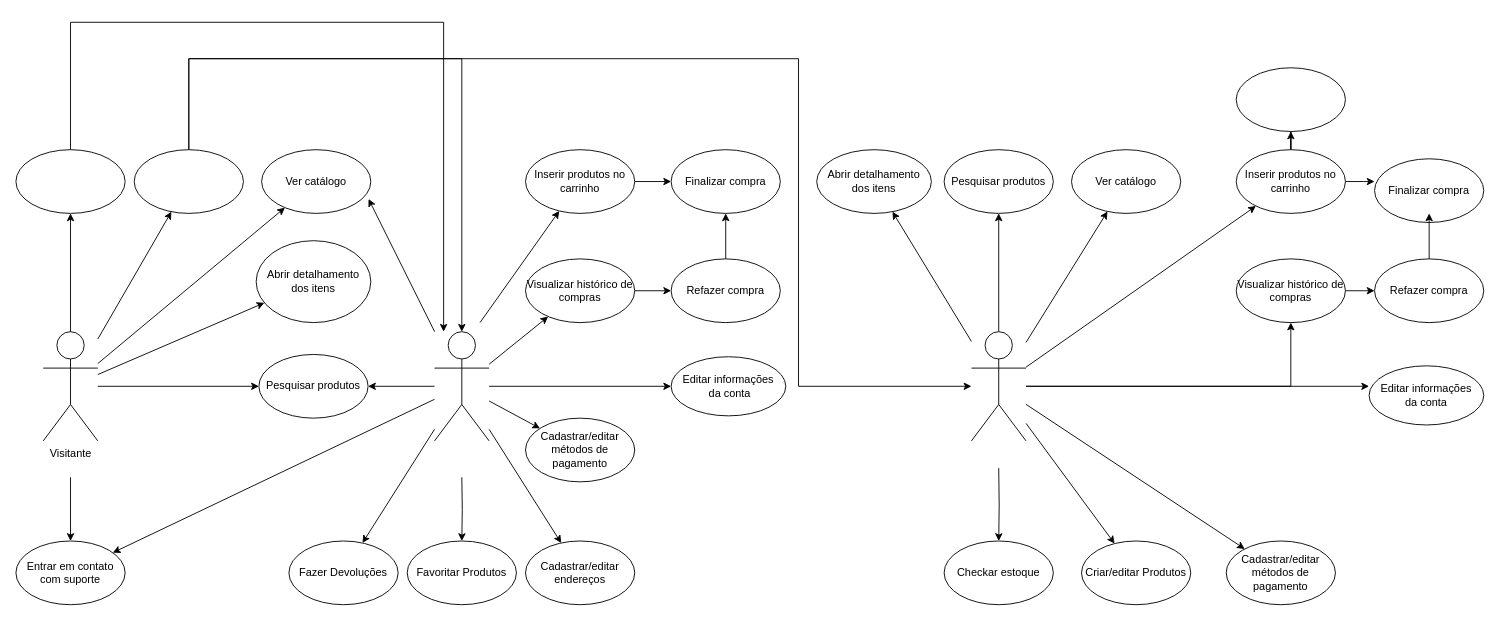
Image size: 1500x621. Some labels were removed from this diagram. The shapes that lost their labels are listed below. From the top down, each one's centre as x and y in pixels, then its label:
At pixel 1290 99: "Excluir compra".
At pixel 70 181: "Cadastrar conta".
At pixel 188 181: "Logar-se".
At pixel 461 386: "Comprador".
At pixel 998 386: "Vendedor".
